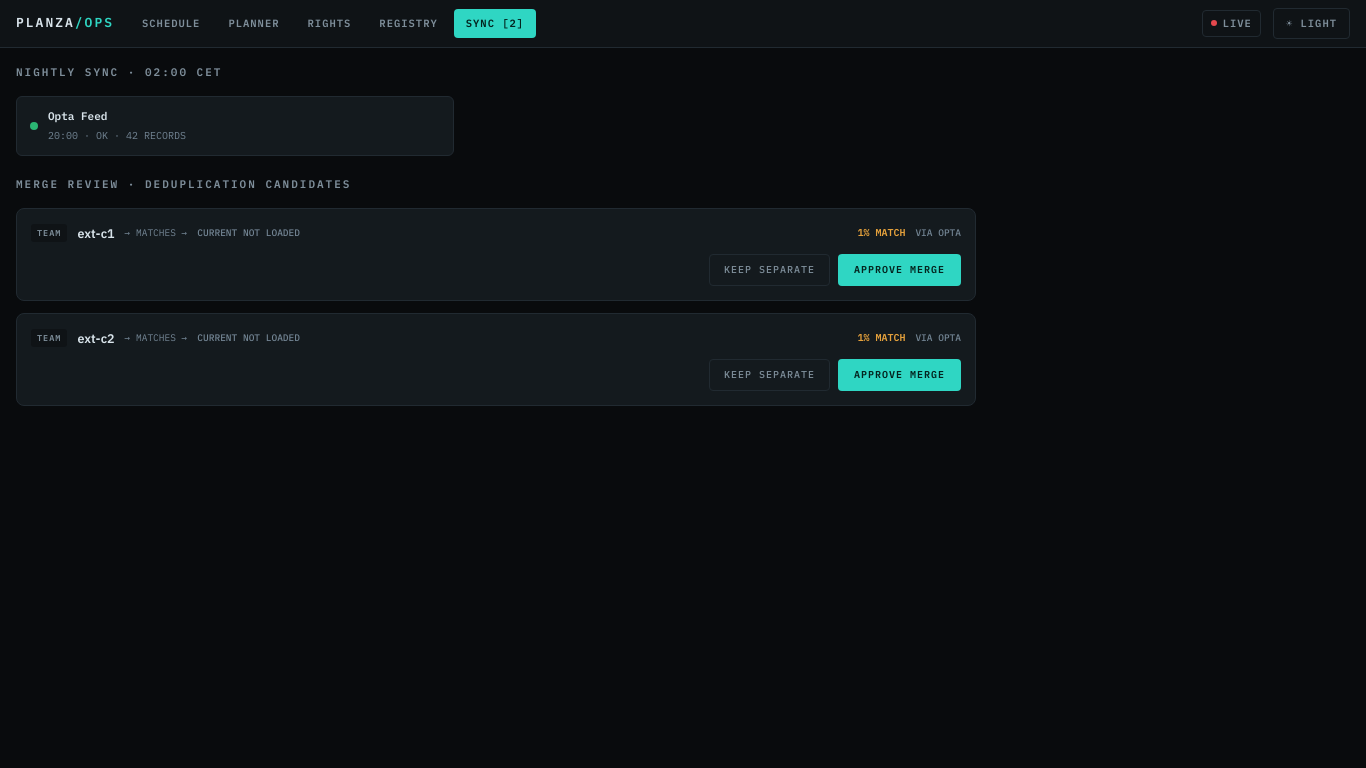
SYNC badge slot (wired for real in EPIC D) › clears the SYNC badge when a later sync load returns zero pending candidates
Expected: the link "SYNC [2]" is shown, [454, 9, 536, 38]
Click the link "SCHEDULE": {"x": 171, "y": 23} [142, 16, 200, 30]
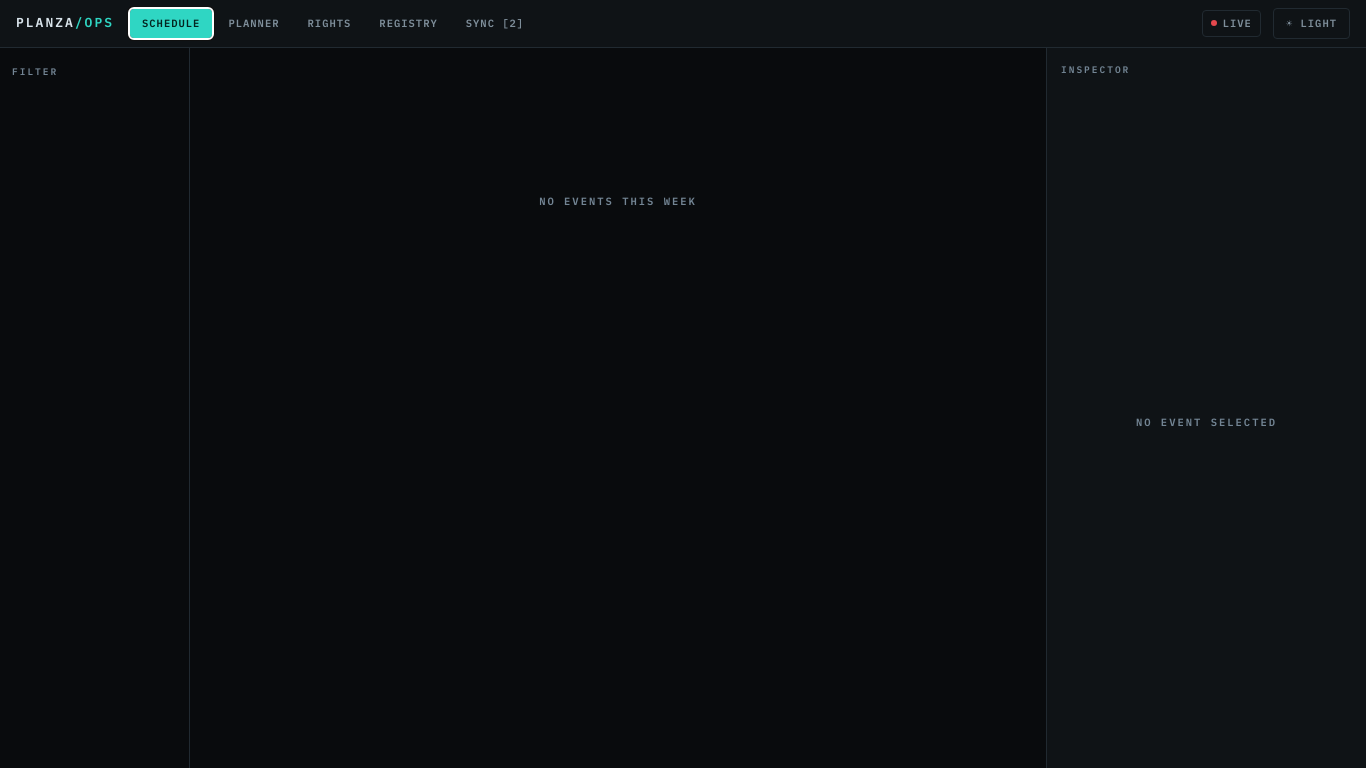
Click the link "SYNC [2]": {"x": 495, "y": 23} [466, 16, 524, 30]
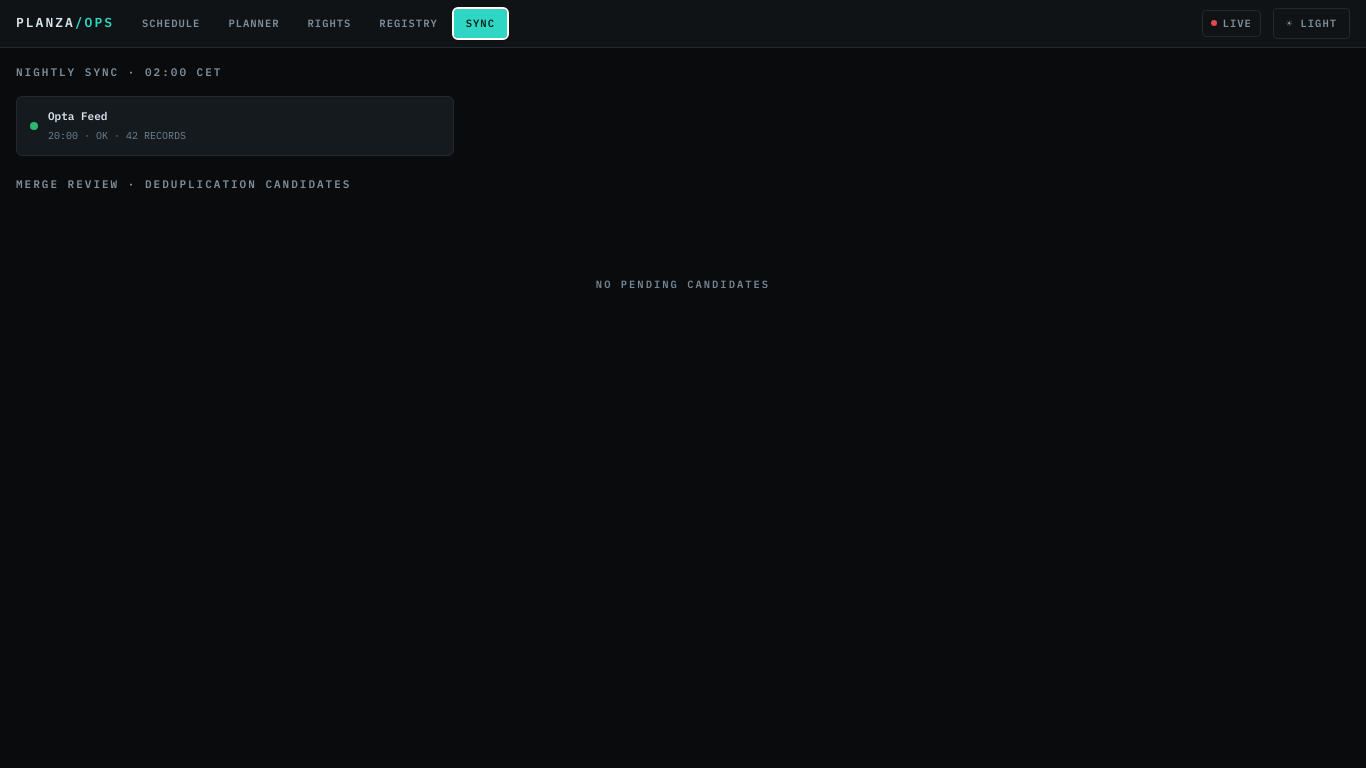
Expected: the link "SYNC" is shown, [454, 9, 507, 38]
Expected: the link "SYNC [2]" is gone
